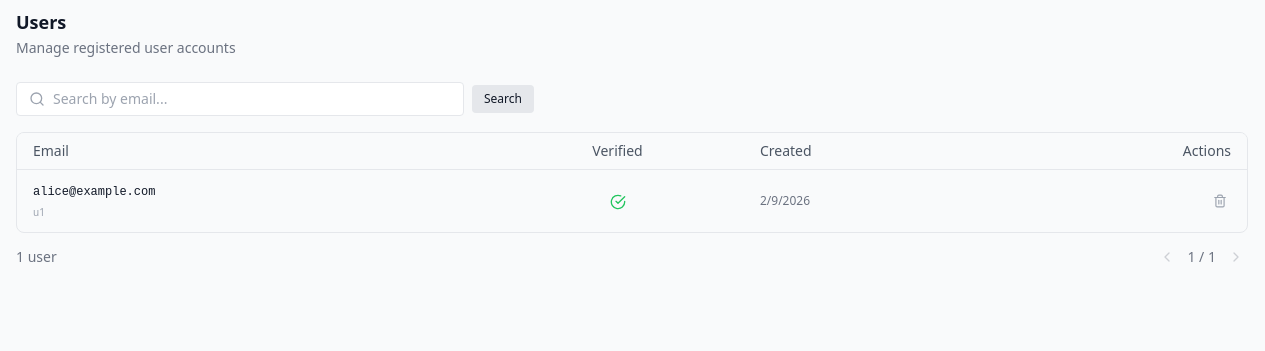
Test case: Users › shows no-match message when search returns empty
Check: the text "alice@example.com" is shown, box [33, 185, 155, 199]
In the field named "Search users": (252, 99) [53, 89, 451, 109], type "nobody"
Then press Enter
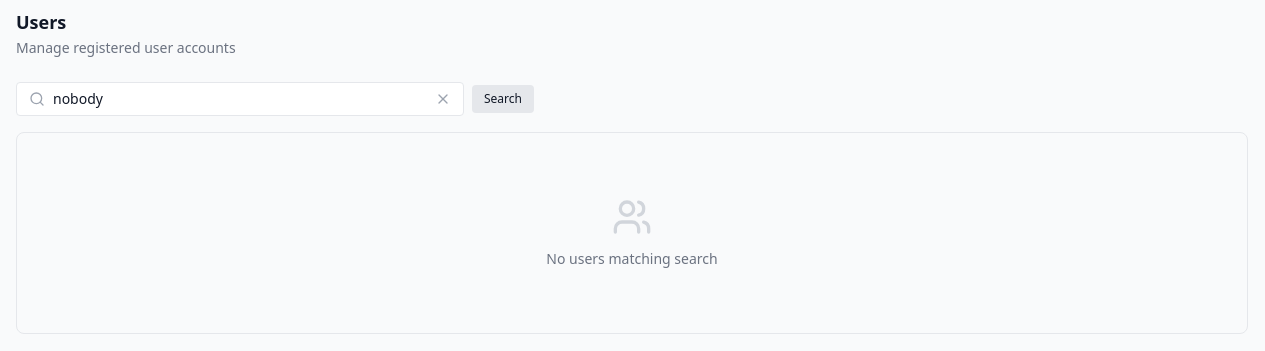
Check: the text "No users matching search" is shown, box [546, 249, 718, 268]
